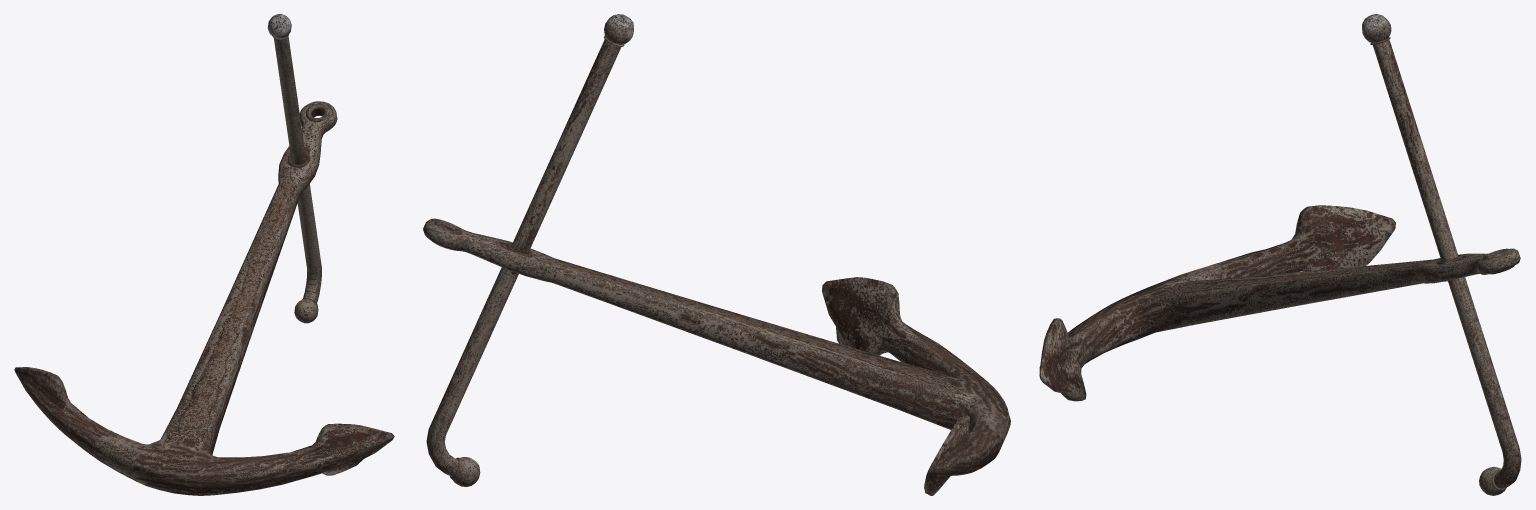
3 renders of one model, left to right at view 1: azimuth 30°, elevation 25°; view 2: azimuth 150°, elevation 25°; view 3: azimuth 270°, elevation 25°, orthographic. The views are drawn at different scales.
Visible parts, largest first — view 1: Anchor_LOW; view 2: Anchor_LOW; view 3: Anchor_LOW.
Boxes of the visible parts, box(x1,y1,x2,y2) form: Anchor_LOW: box(14, 14, 394, 495); Anchor_LOW: box(423, 14, 1010, 495); Anchor_LOW: box(1039, 14, 1521, 495).
Bounding box in the file's own units: 0.7445 × 0.7057 × 0.7028.
1 material, 1 textured.
